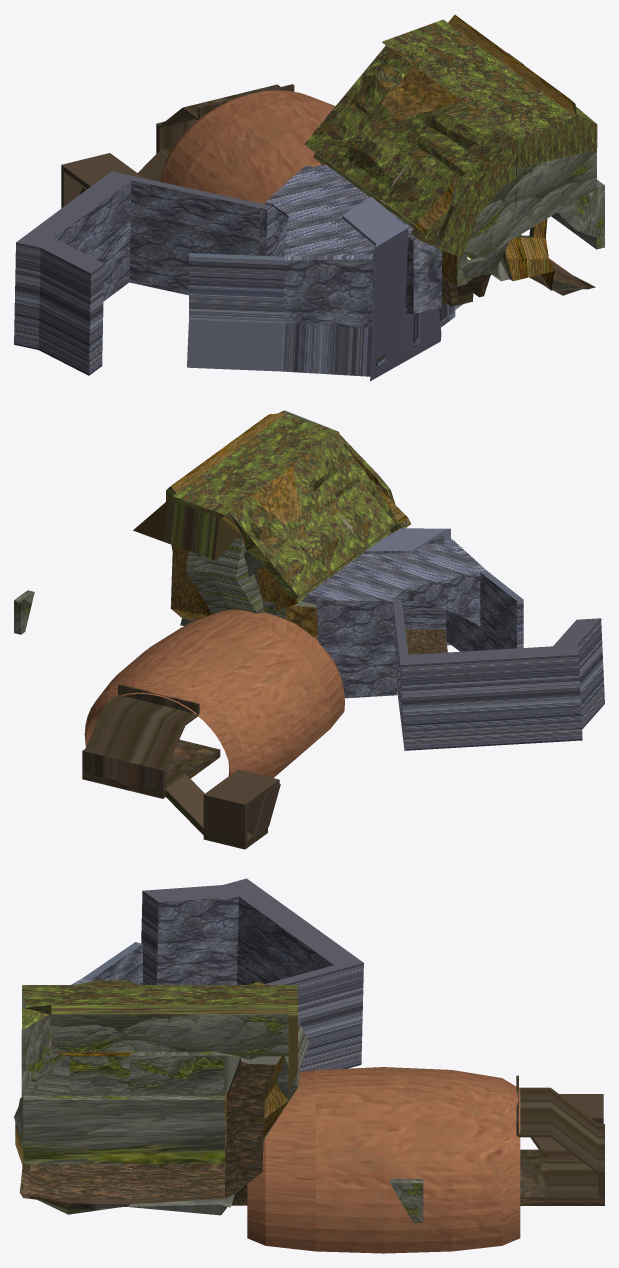
Rendered from rat-cave.glb.
3 views of the same model, one above another, from view 1: azimuth 30°, elevation 25°; view 2: azimuth 150°, elevation 25°; view 3: azimuth 270°, elevation 25° (orthographic). The views are drawn at different scales.
Parts seen in each view (by area): view 1: Cube.006, Cube.002, Torus, Cube.005, Cube.003, Cube.004; view 2: Cube.006, Cube.002, Torus, Cube.005, Cube; view 3: Cube.002, Torus, Cube.006, Cube.003, Cube.005, Cube.
Part boxes in pixels (x1=…): Cube.006: x1=14, y1=164, x2=463, y2=381; Cube.002: x1=304, y1=14, x2=597, y2=295; Torus: x1=160, y1=90, x2=335, y2=204; Cube.005: x1=61, y1=84, x2=294, y2=208; Cube.003: x1=551, y1=180, x2=604, y2=249; Cube.004: x1=442, y1=259, x2=491, y2=306; Cube.006: x1=301, y1=528, x2=604, y2=750; Cube.002: x1=133, y1=410, x2=410, y2=636; Torus: x1=84, y1=609, x2=344, y2=777; Cube.005: x1=82, y1=684, x2=280, y2=849; Cube: x1=14, y1=590, x2=34, y2=634; Cube.002: x1=15, y1=980, x2=309, y2=1215; Torus: x1=247, y1=1067, x2=520, y2=1253; Cube.006: x1=50, y1=878, x2=363, y2=1072; Cube.003: x1=14, y1=1095, x2=224, y2=1163; Cube.005: x1=516, y1=1075, x2=604, y2=1205; Cube: x1=390, y1=1179, x2=423, y2=1222.
Size of the model in its own units: 139 by 58.51 by 119.
7 materials, 7 textured.
